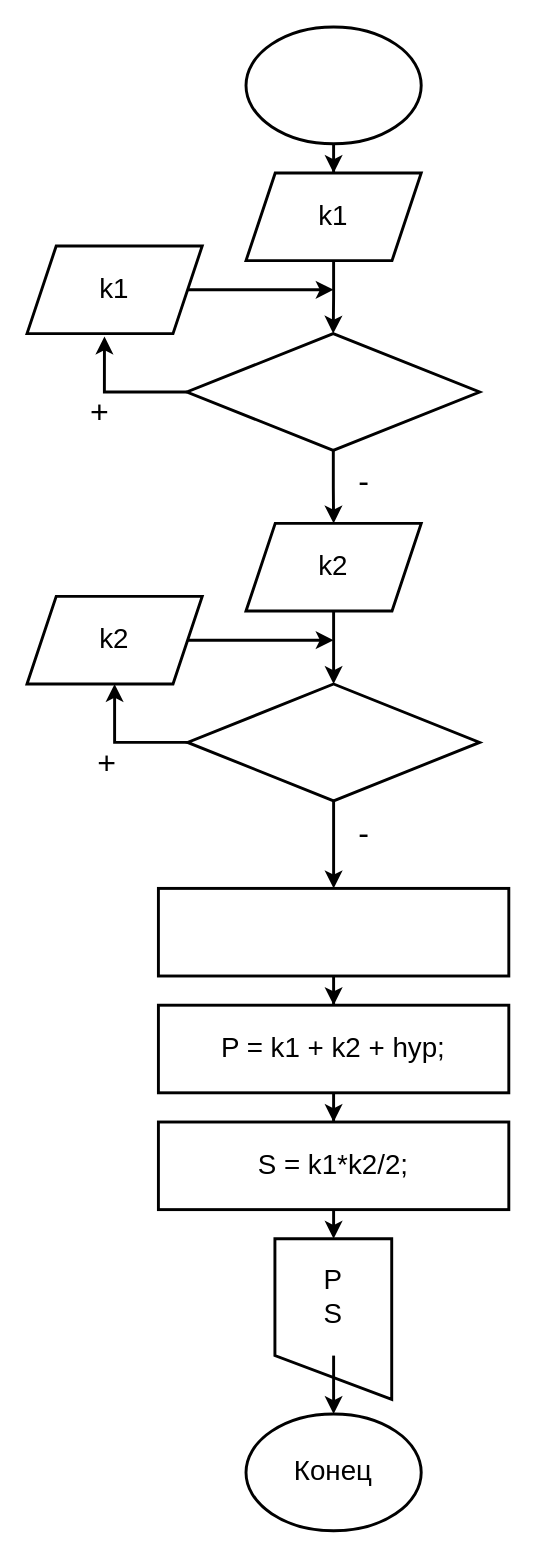
The diagram is 534 pixels wide and 1556 high, and some of its shapes have lost their labels. The shapes that lost their labels are listed below. From the top down, each one's box as (x1, y1, x2, y2) in pixels, then its label:
(244, 25, 422, 145): Начало
(185, 331, 480, 451): k1 <= 0
(185, 682, 480, 802): k2 <= 0
(156, 886, 510, 977): hyp = sqrt(k1*k1 + k2*k2);
